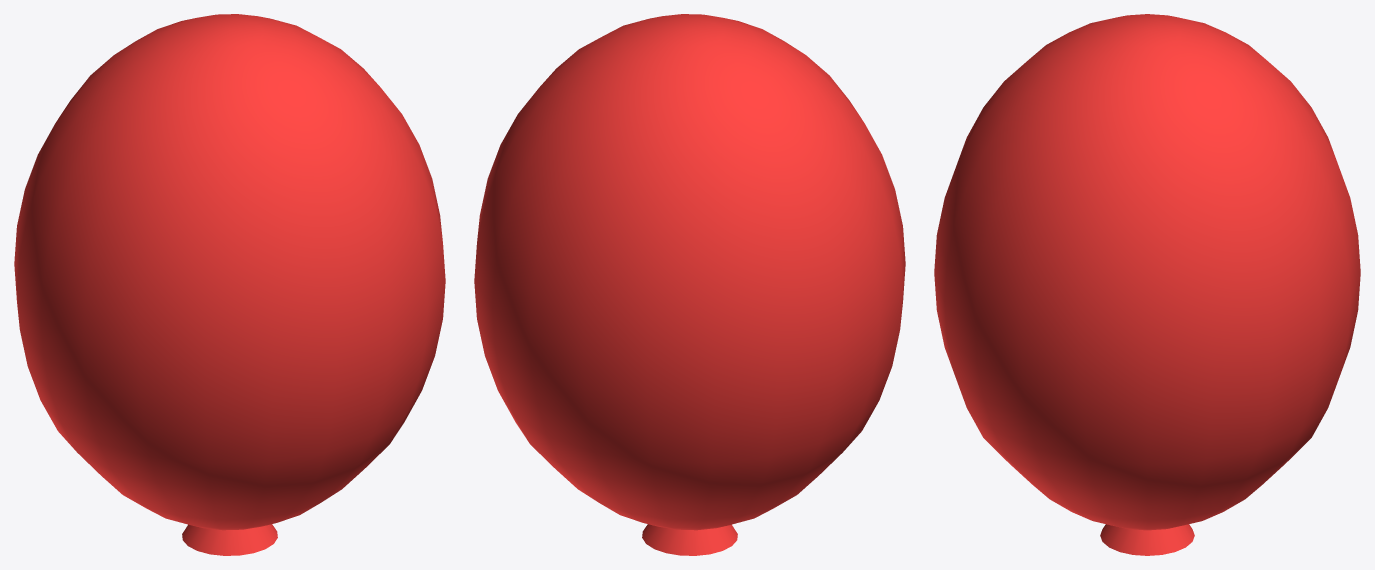
The model's file is balloon.gltf.
3 views of the same model, side by side, from view 1: azimuth 30°, elevation 25°; view 2: azimuth 150°, elevation 25°; view 3: azimuth 270°, elevation 25° (orthographic).
Visible parts, largest first — view 1: balloon; view 2: balloon; view 3: balloon.
Part boxes in pixels (x1,y1,x2,y2): balloon: (14, 14, 445, 555); balloon: (474, 14, 905, 555); balloon: (934, 14, 1360, 555).
Bounding box in the file's own units: 4.71 × 6.06 × 4.61.
